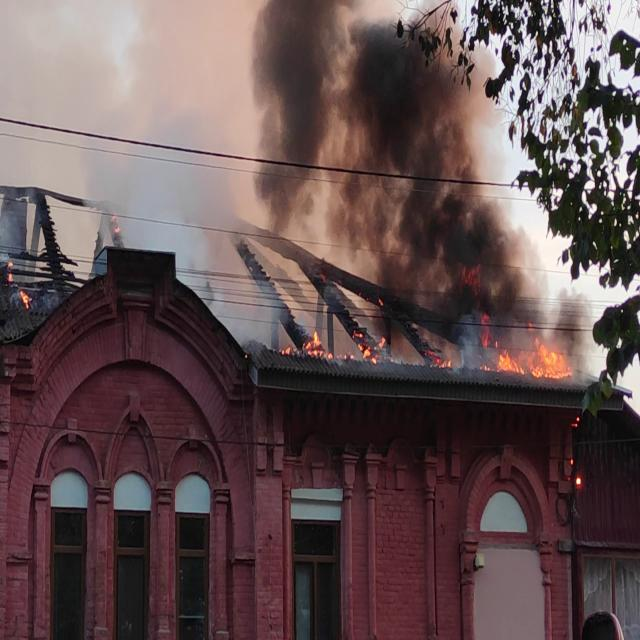fire: (495, 315, 571, 382)
smoke: (350, 21, 506, 298)
